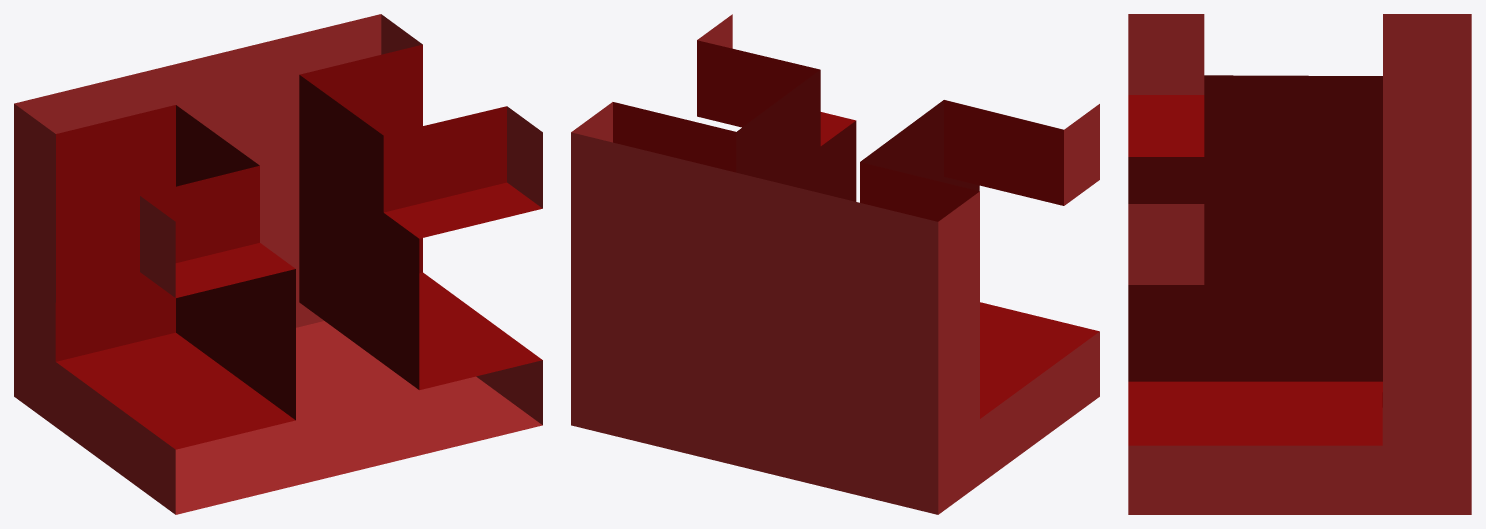
File: coin_poutre.fbx
3 renders of one model, left to right at view 1: azimuth 30°, elevation 25°; view 2: azimuth 150°, elevation 25°; view 3: azimuth 270°, elevation 25°, orthographic. The views are drawn at different scales.
Parts seen in each view (by area): view 1: pCube7; view 2: pCube7; view 3: pCube7.
Boxes of the visible parts, x1,y1,x2,y2 form: pCube7: [14, 14, 542, 514]; pCube7: [571, 14, 1099, 514]; pCube7: [1128, 14, 1471, 514].
Size of the model in its own units: 2.97 by 2.27 by 2.27.
Materials: 1 (1 with a texture image).
